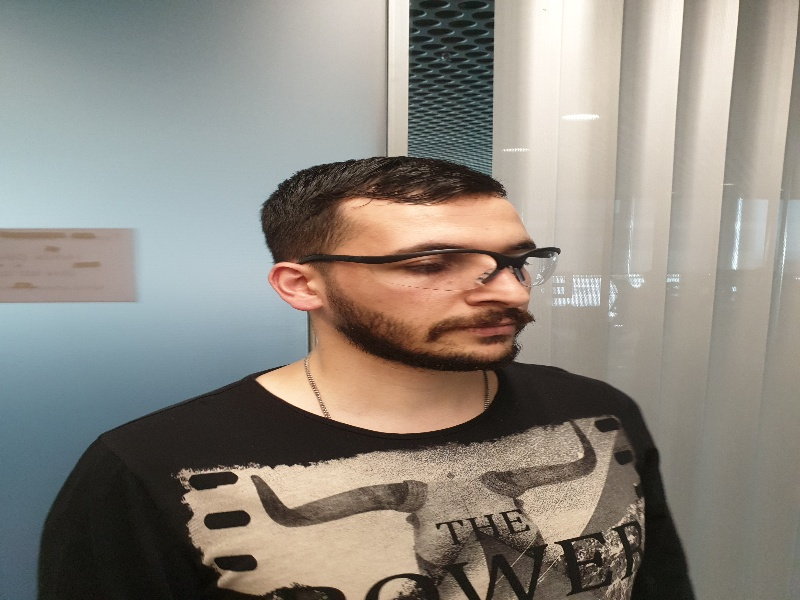Gozluk: (303, 246, 565, 290)
